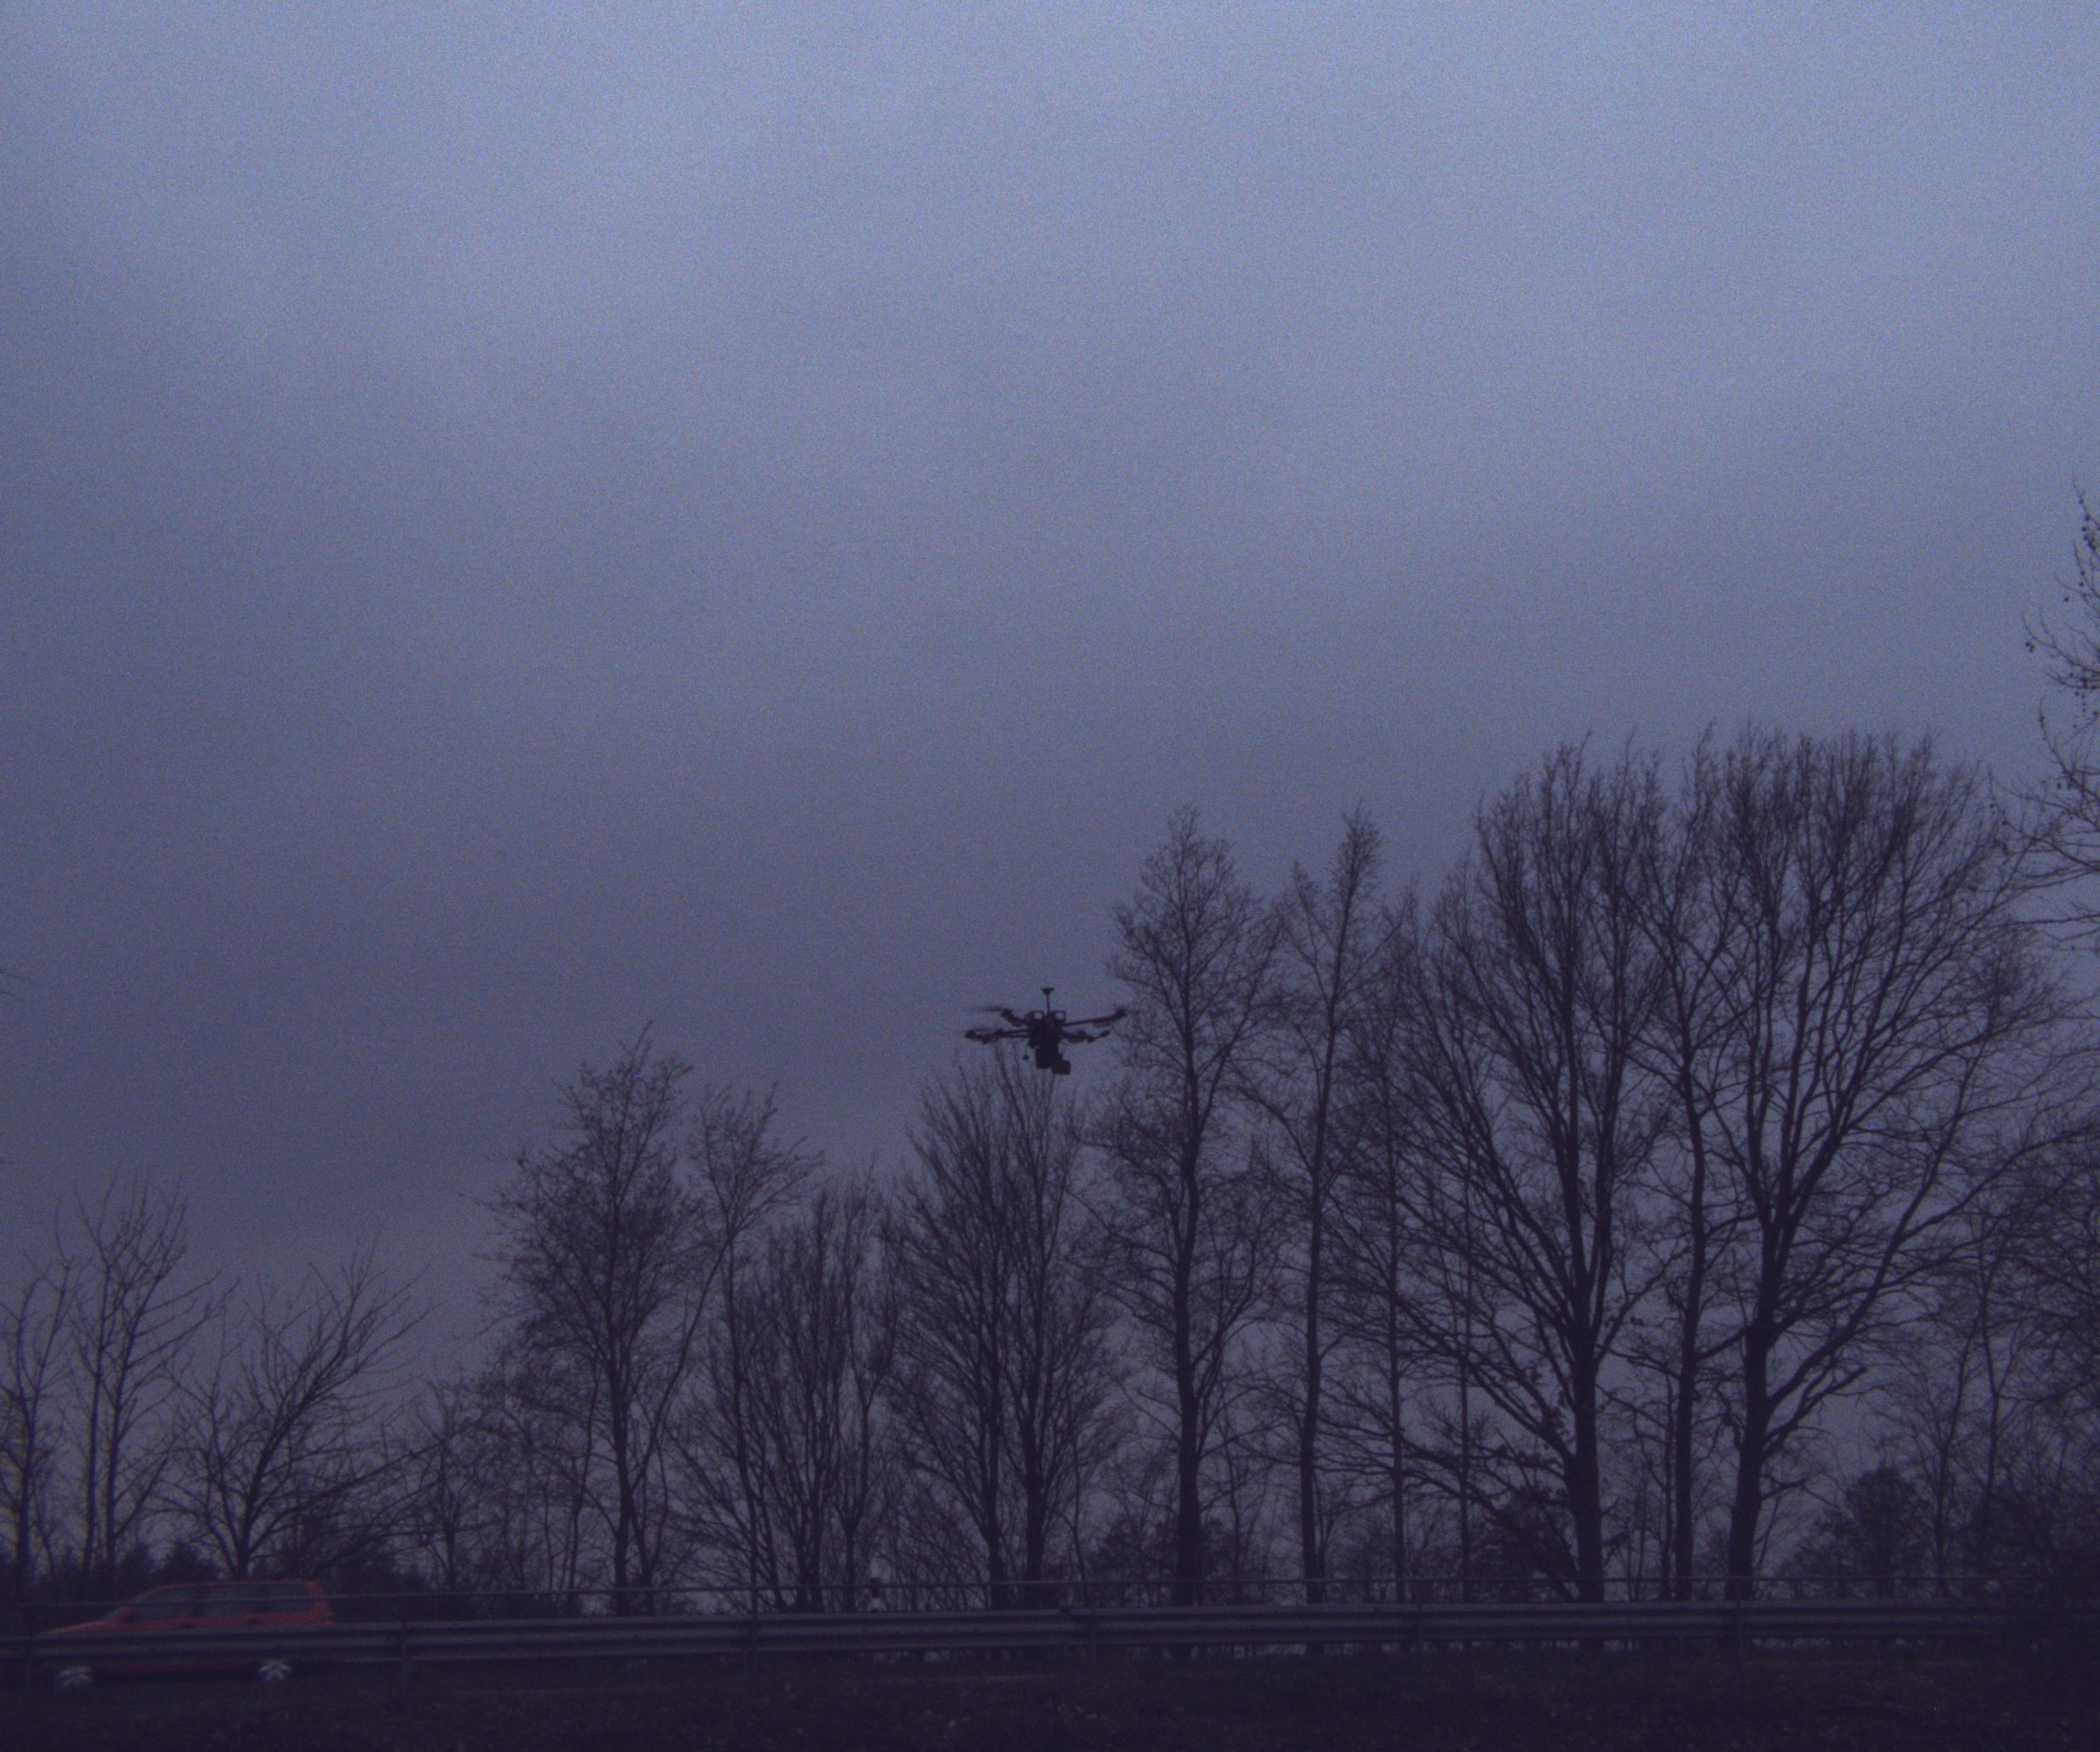Drohne: (816, 954, 1209, 1130)
